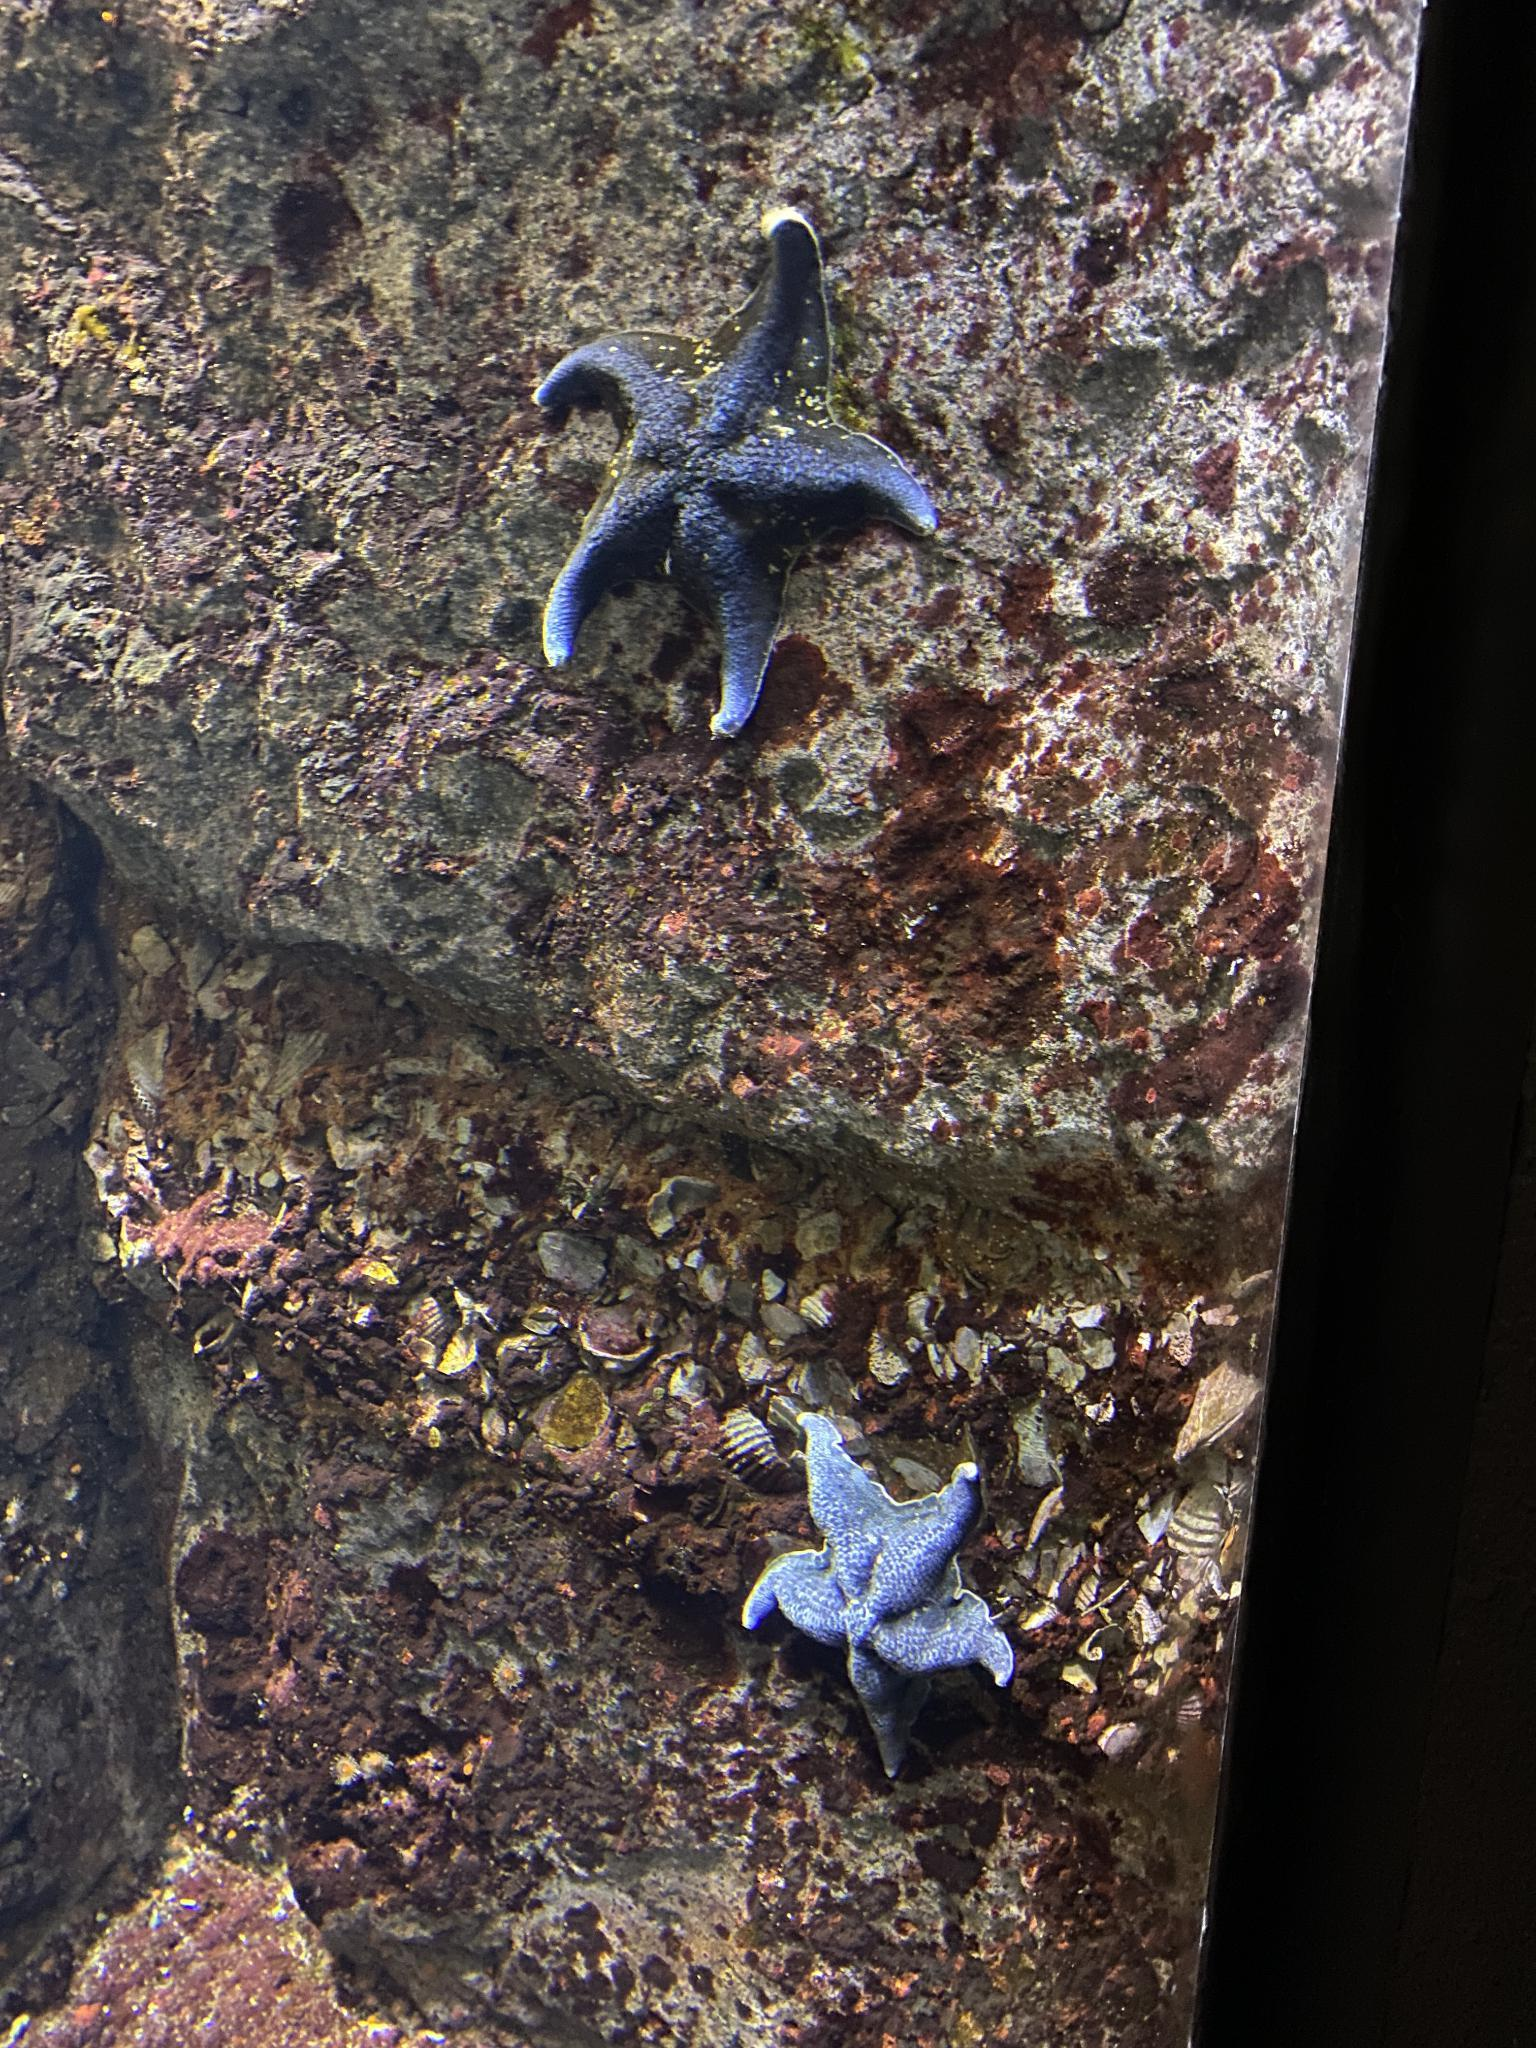starfish: (531, 208, 937, 740), (739, 1413, 1016, 1782)
